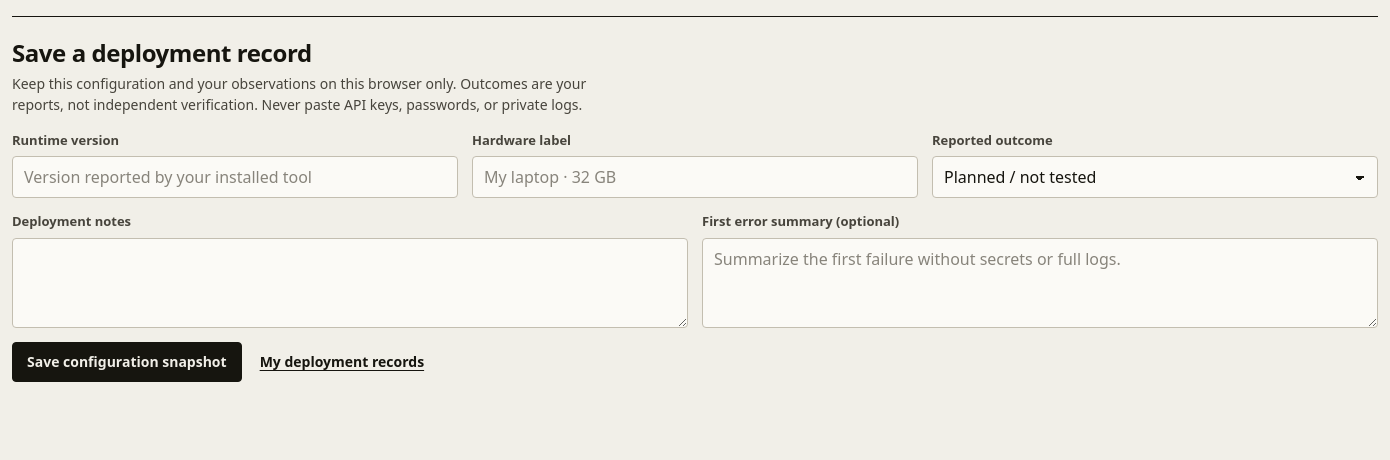
Test: shows quota errors without claiming success
What coordinates should you click on to do the following:
click the button "Save configuration snapshot"
I would click on:
 (127, 362)
Its box is [12,342,242,382].
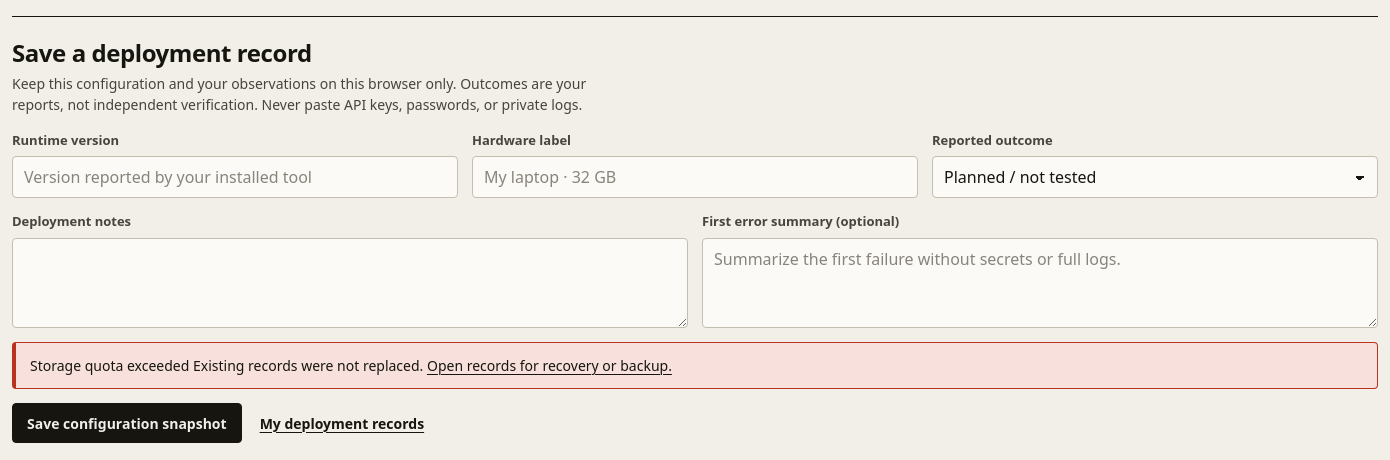
Expected: the message shows "Storage quota exceeded", [30,356,189,375]
